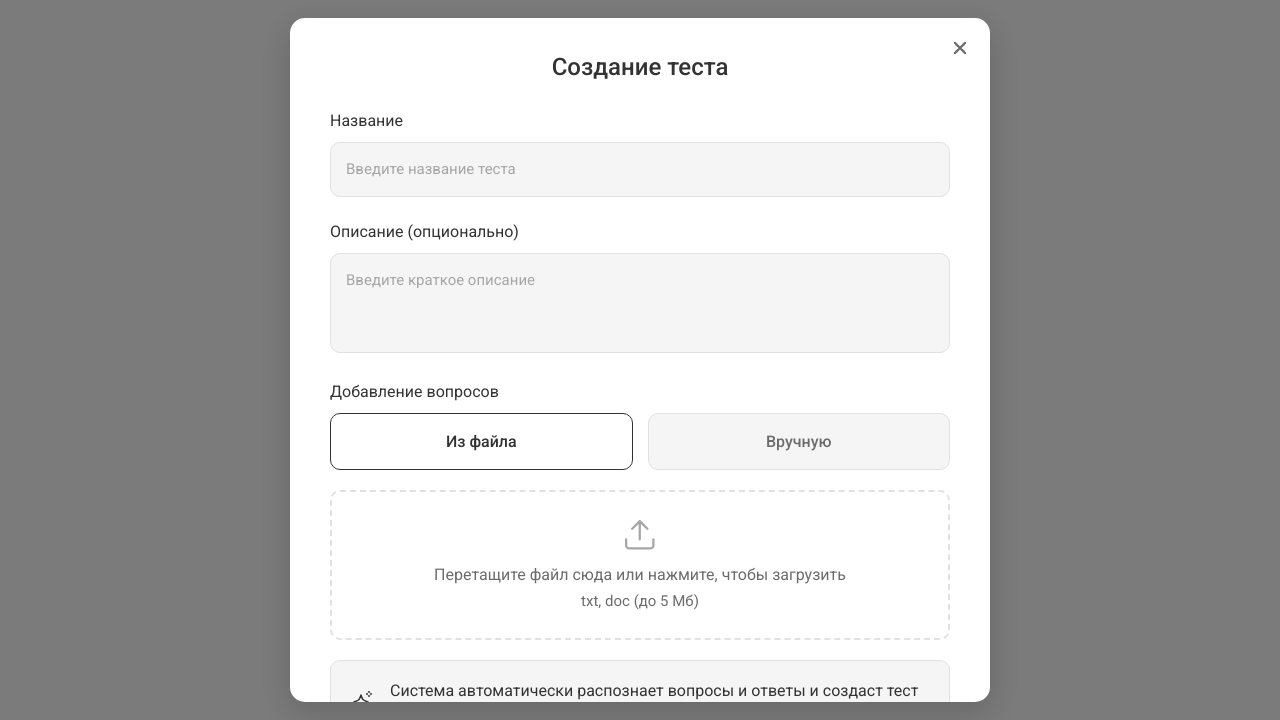
Test: CreateTestModal › should switch to manual tab
This screenshot has width=1280, height=720.
Click the button "Вручную". click: coordinates (799, 441)
box: top-left (648, 412), bottom-right (950, 470)
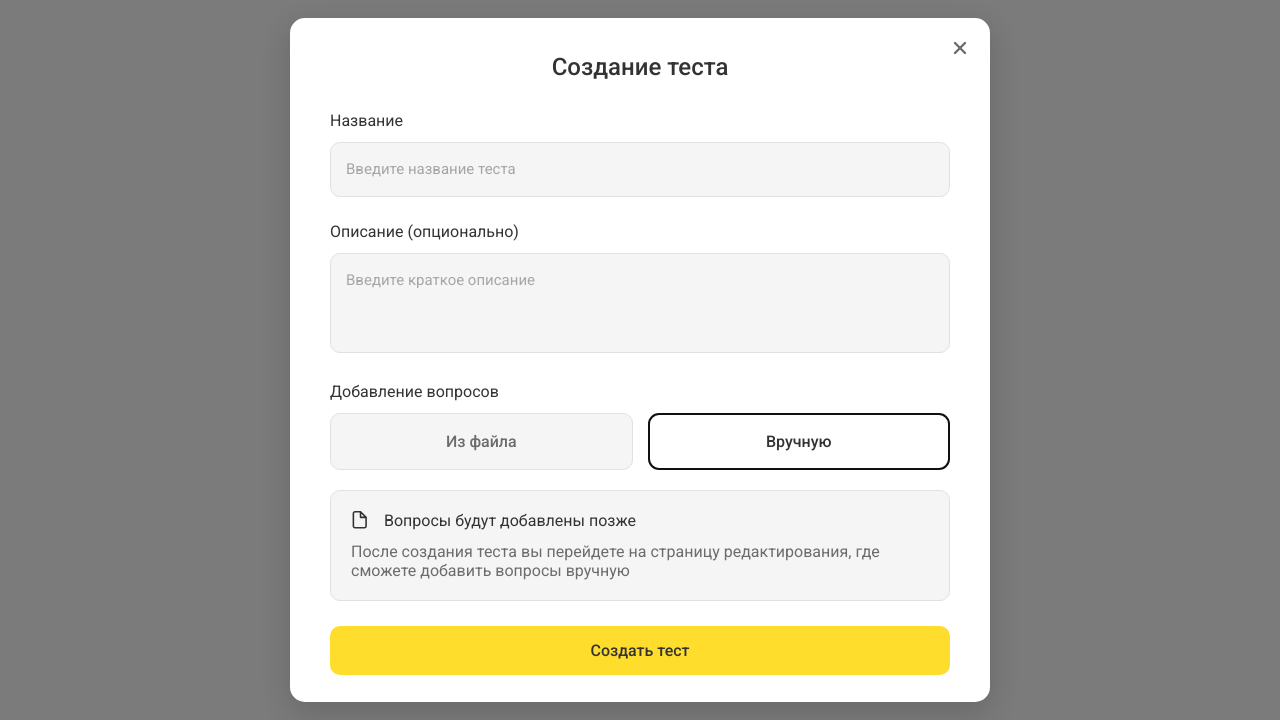
Now the text "Вопросы будут добавлены позже" is shown, box top-left (384, 510), bottom-right (636, 530)
Now the text "После создания теста вы перейдете на страницу редактирования, где сможете добавить вопросы вручную" is shown, box top-left (351, 542), bottom-right (880, 580)
